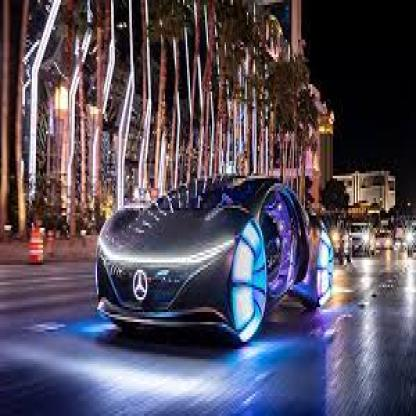car: (93, 169, 333, 332)
